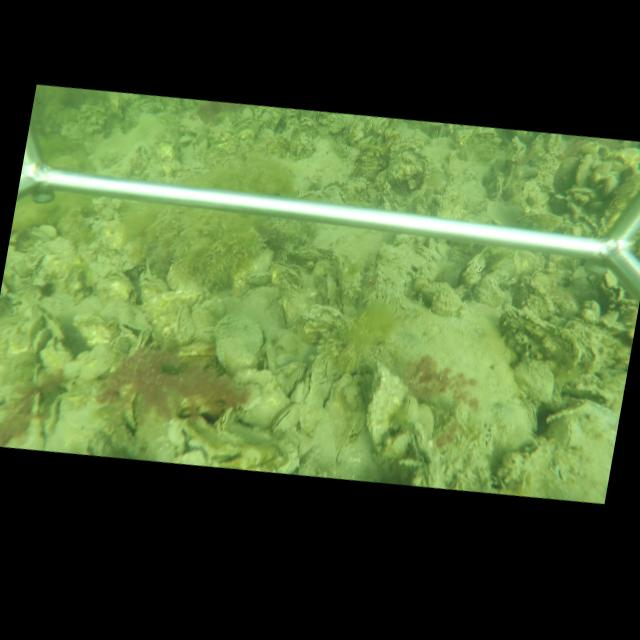Oyster-Closed: (365, 354, 407, 453), (387, 146, 429, 190), (302, 352, 333, 400), (459, 248, 489, 289), (323, 372, 353, 409), (514, 210, 565, 231), (548, 416, 579, 449), (269, 261, 304, 288), (270, 403, 299, 434), (280, 295, 301, 328), (574, 152, 592, 186), (519, 395, 538, 427), (132, 326, 152, 352)
Oyster-Indeterminate: (232, 368, 290, 429), (213, 316, 265, 374), (510, 358, 554, 404), (285, 244, 331, 267)
Oyster-Open: (40, 389, 72, 444)
